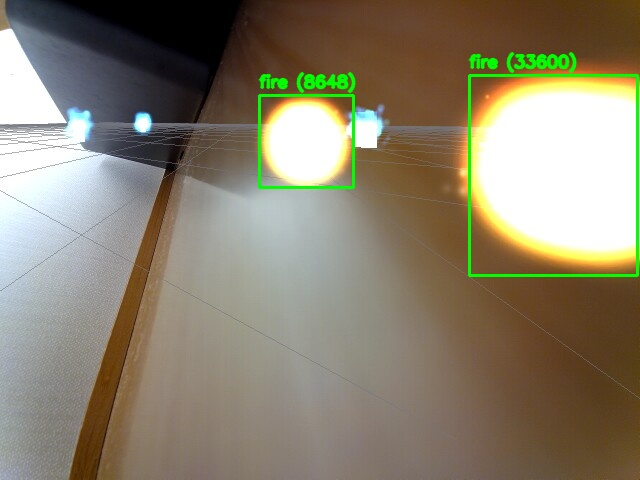fire: (469, 75, 637, 275), (259, 95, 353, 187)
